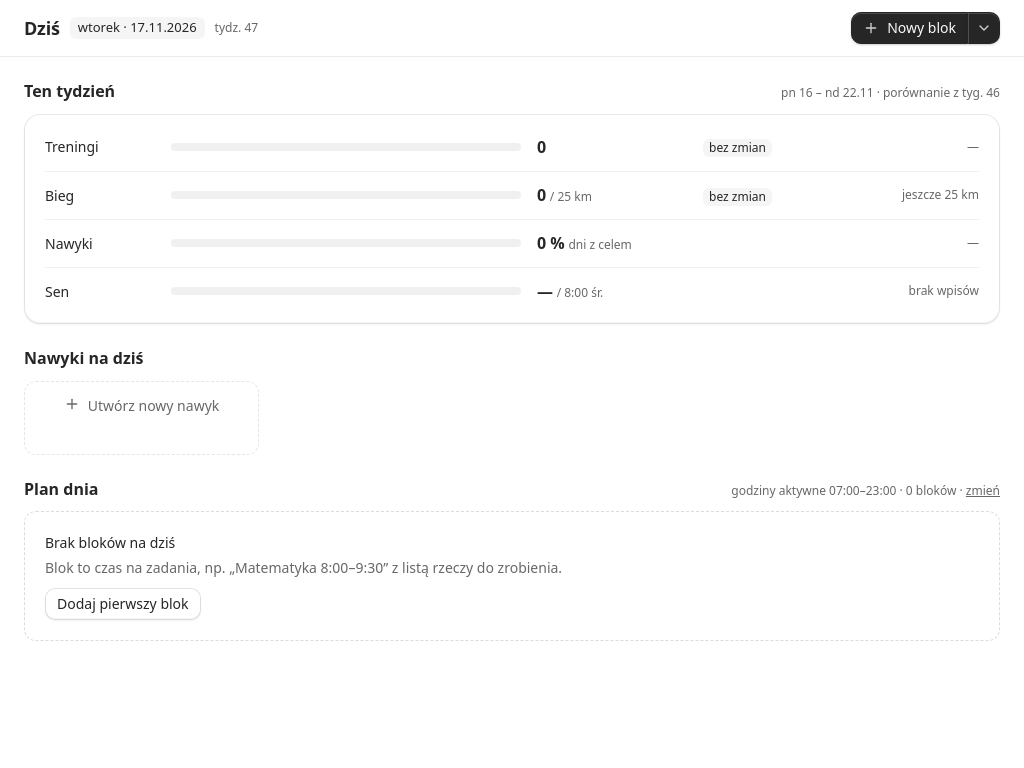
Test case: TodayView › „Nowy blok” otwiera okno bloku na dziś, na najbliższą pełną godzinę, a zapis odświeża stronę
Click the button "Nowy blok" at x=910, y=28, box [851,12,968,44]
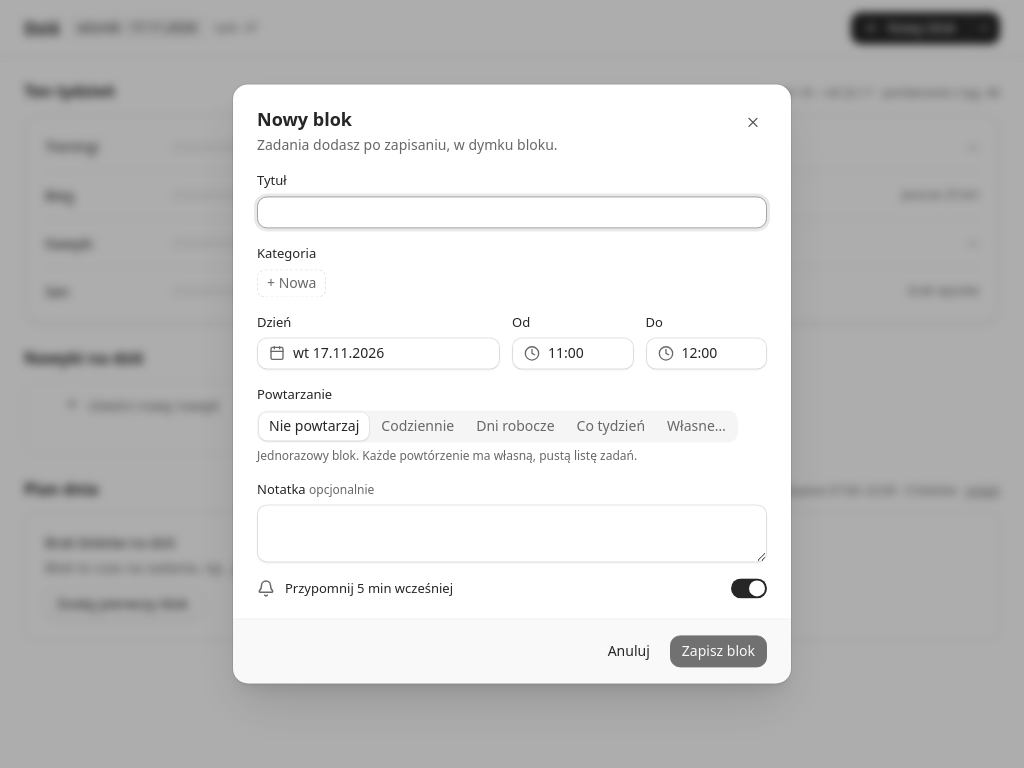
Expected: the button with aria-label "Dzień" shows "17.11.2026", [257,338,500,370]
Expected: the button named "Od" reads "11:00", [512,338,634,370]
Expected: the button named "Do" reads "12:00", [646,338,767,370]
Type "Algebra" into the field labelled "Tytuł" at x=512, y=212, box [257,196,767,228]
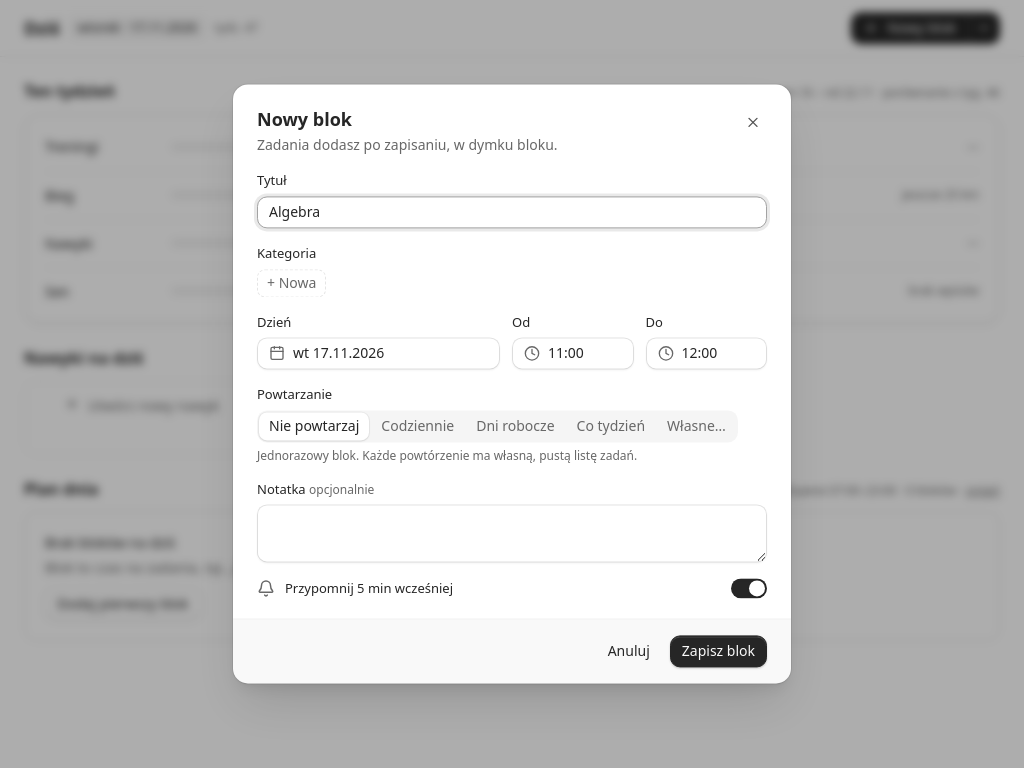
Click the button "Zapisz blok" at x=718, y=652, box [670,636,767,668]
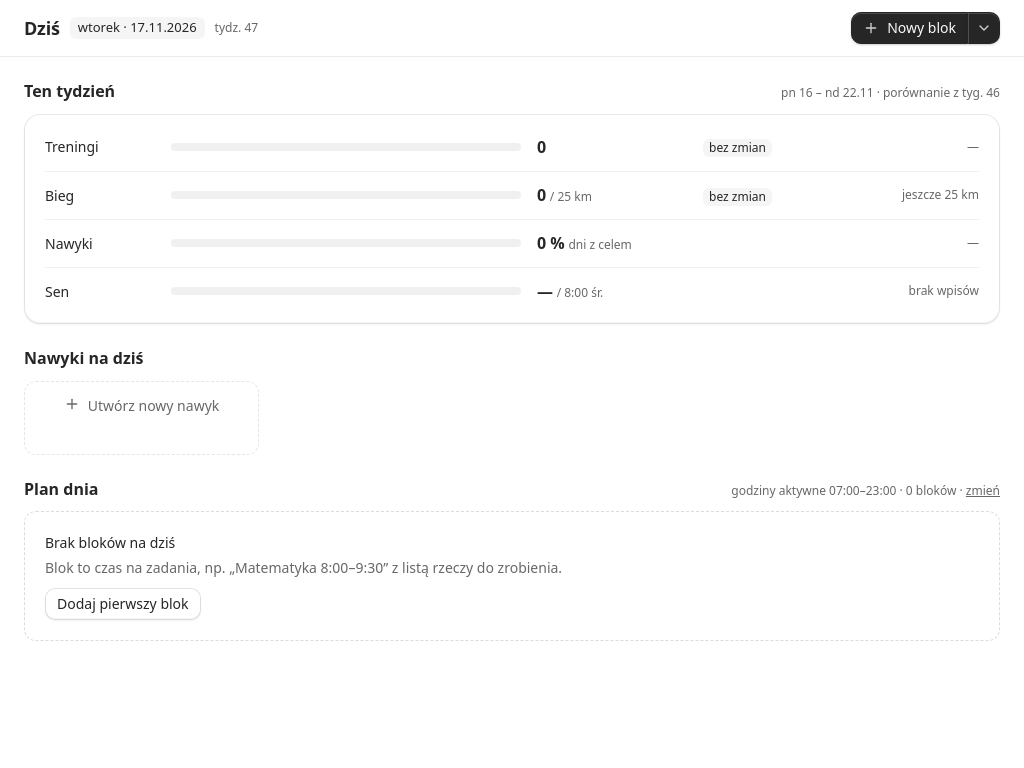
Expected: the dialog is gone
